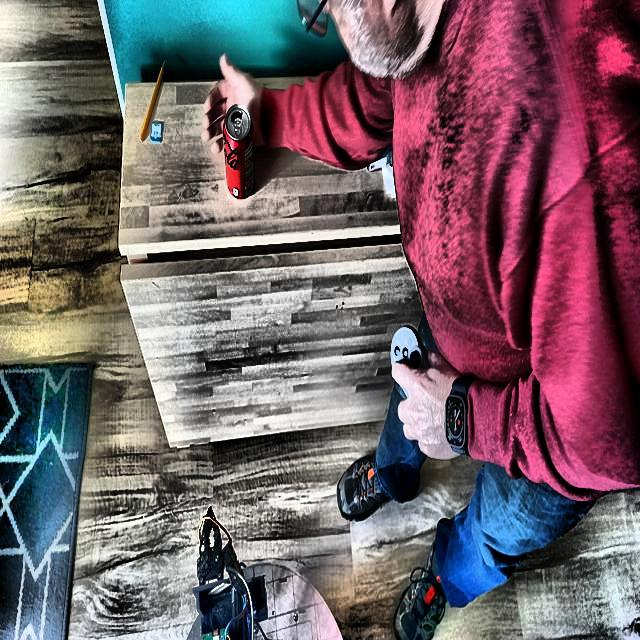CokeZero-can: (220, 102, 259, 204)
